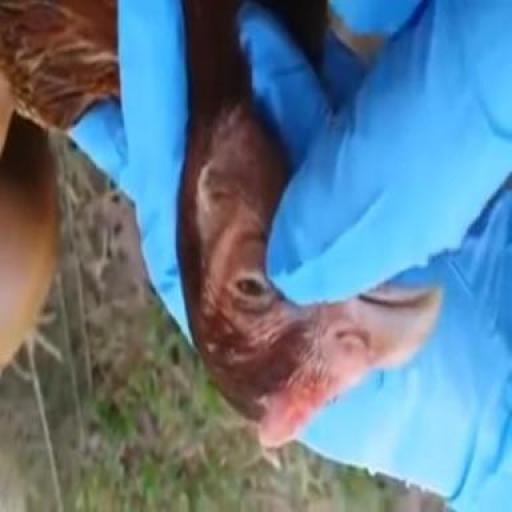disease: (205, 243, 287, 325)
